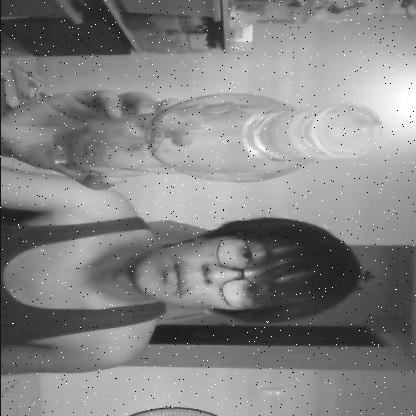Plastic Bottle: (45, 90, 382, 184)
